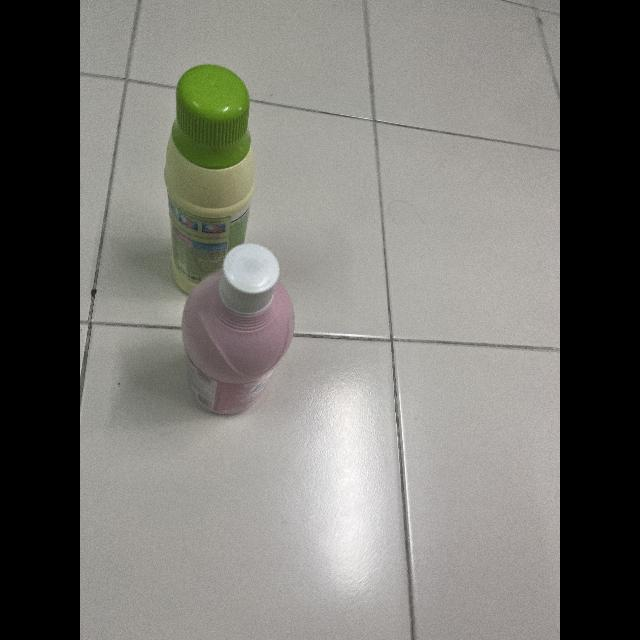chemical_plastic_bottle: (174, 235, 302, 419), (162, 59, 256, 293)
